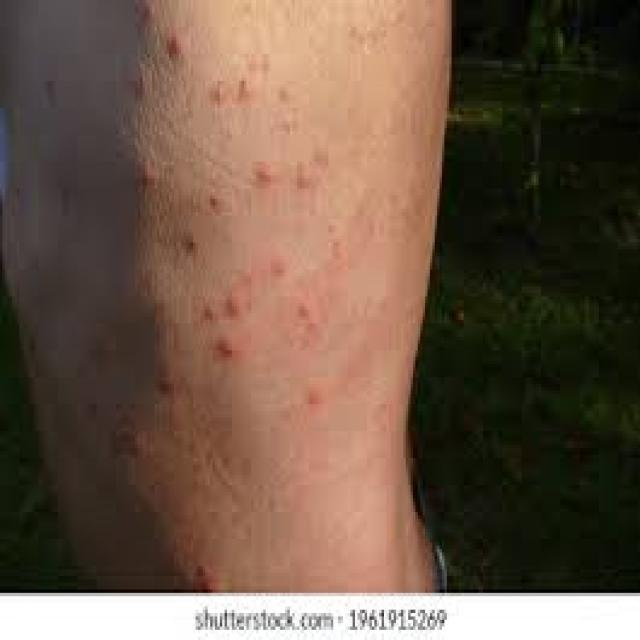kan emici bocekler: (208, 333, 243, 373), (273, 254, 293, 287), (257, 162, 280, 188), (225, 291, 241, 320)
